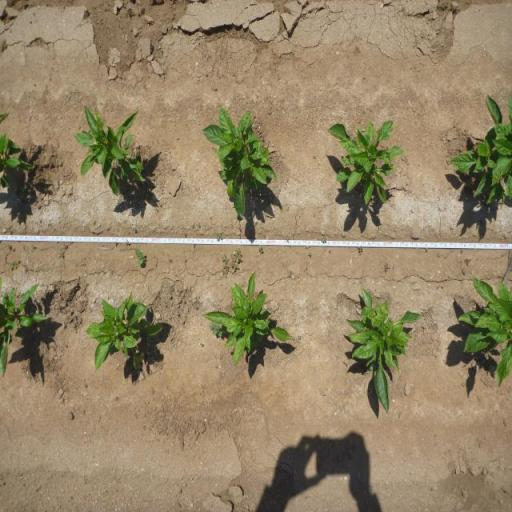plant: (345, 286, 425, 416), (199, 269, 292, 368), (202, 102, 278, 222), (442, 89, 512, 213), (73, 97, 149, 202), (326, 114, 406, 210), (82, 288, 164, 376), (455, 274, 512, 390), (0, 280, 50, 382), (0, 131, 34, 188)
weed: (220, 248, 242, 277), (134, 245, 148, 267), (206, 323, 224, 337), (7, 258, 21, 271), (462, 256, 472, 266), (383, 262, 390, 273), (216, 232, 223, 241), (258, 246, 264, 256), (59, 250, 65, 260), (287, 270, 294, 278), (320, 236, 326, 244), (284, 234, 290, 242), (358, 246, 363, 255), (125, 240, 131, 246), (6, 243, 12, 249), (462, 268, 466, 276), (308, 252, 312, 258)
